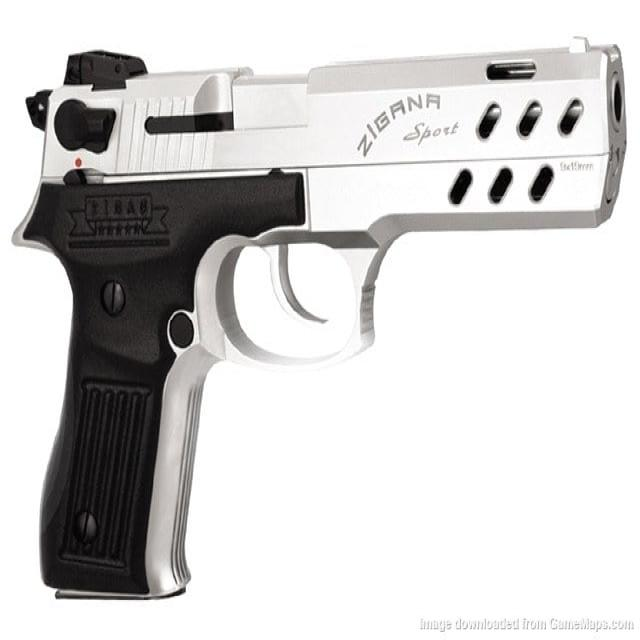HandGun: (15, 33, 630, 603)
